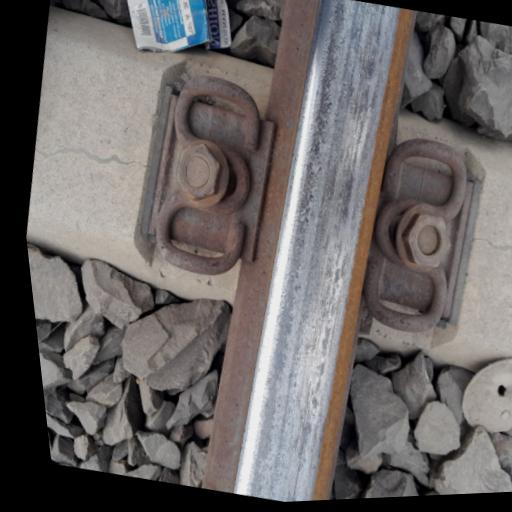bolt: (383, 195, 480, 289), (156, 125, 240, 222)
clip: (334, 114, 512, 354), (117, 58, 288, 294)
rail: (236, 85, 398, 465)
